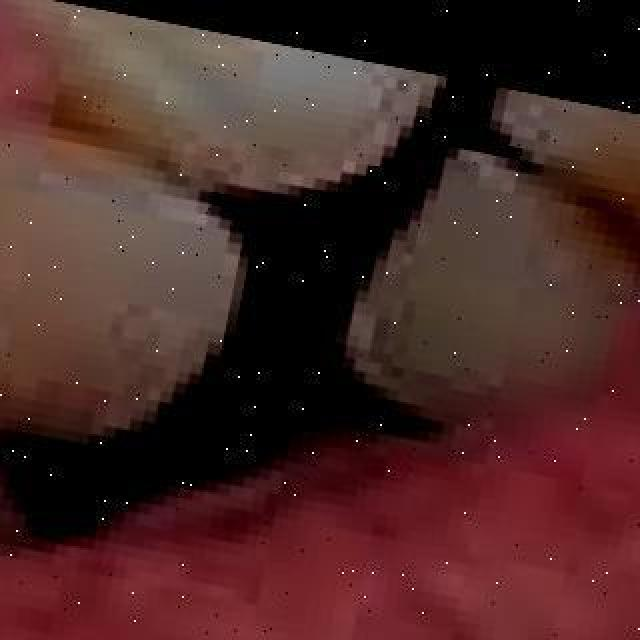spacing: (0, 416, 74, 514)
